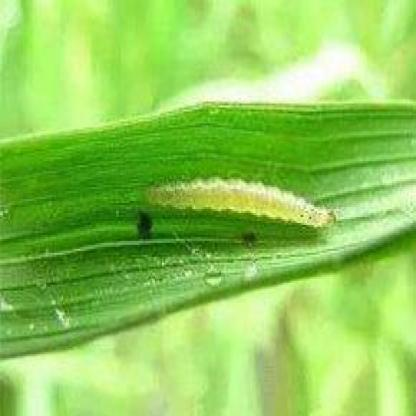leaf-folder: (118, 156, 346, 241)
